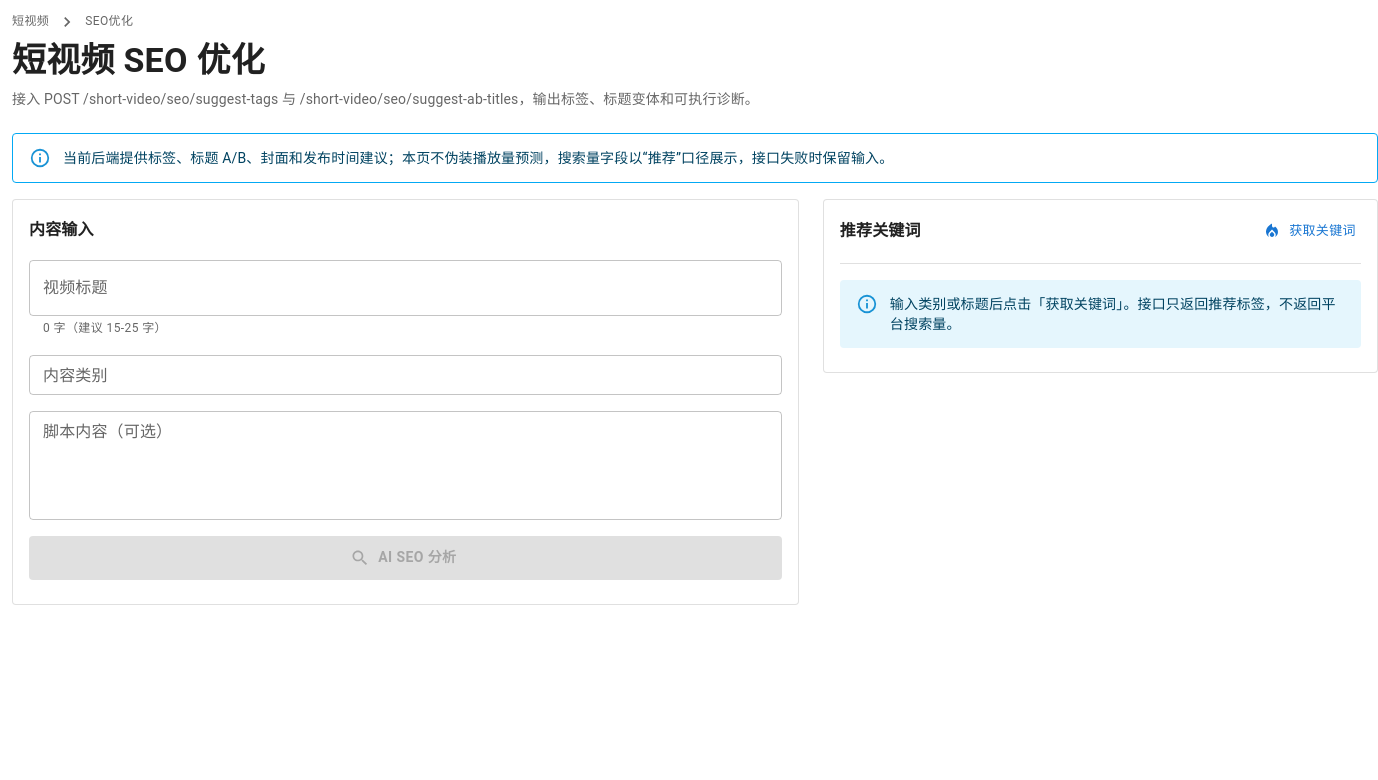
Test: SeoOptimizePage › shows tags endpoint failures and keeps SEO inputs
Type "敏感肌如何修护屏障" into the field labelled "视频标题" at (405, 288), box [29,260,782,316]
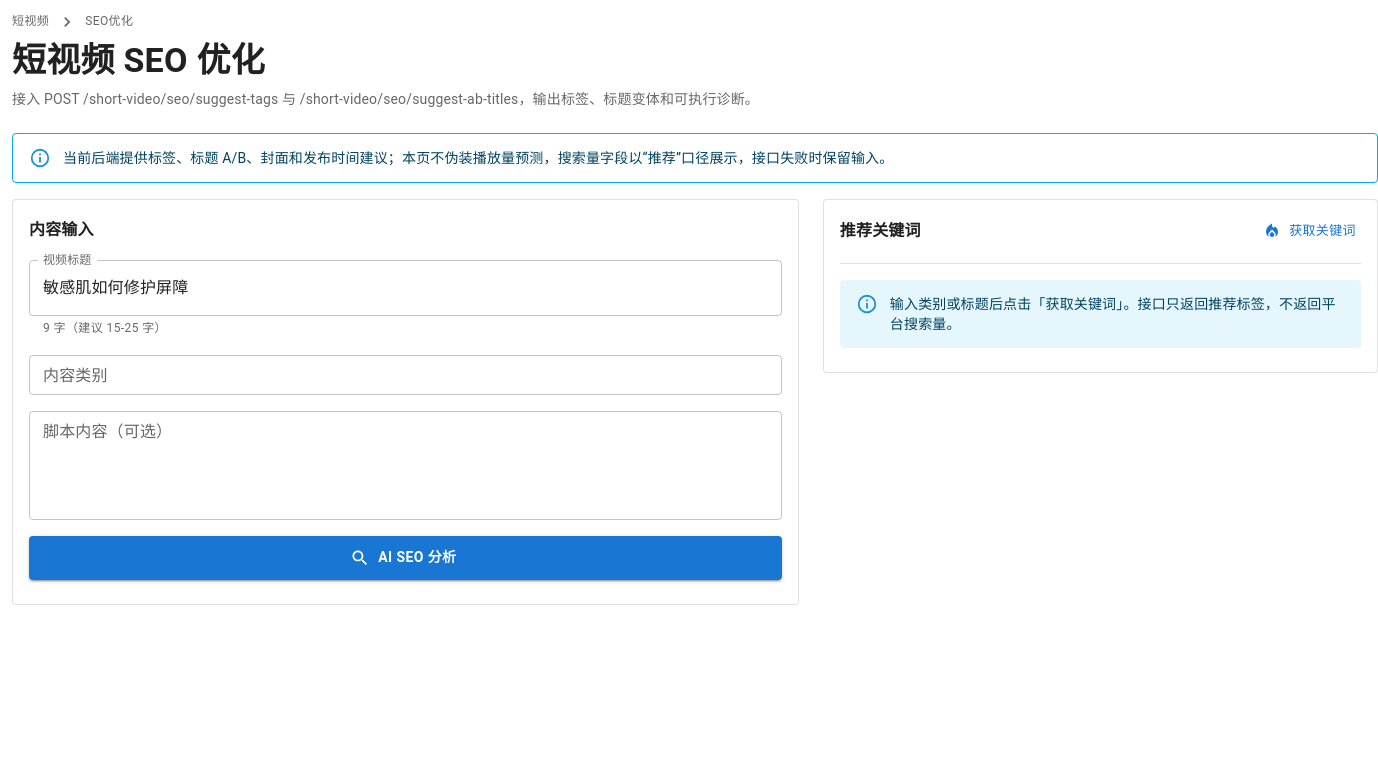
Type "护肤教程" into the field labelled "内容类别" at (405, 375), box [29,355,782,395]
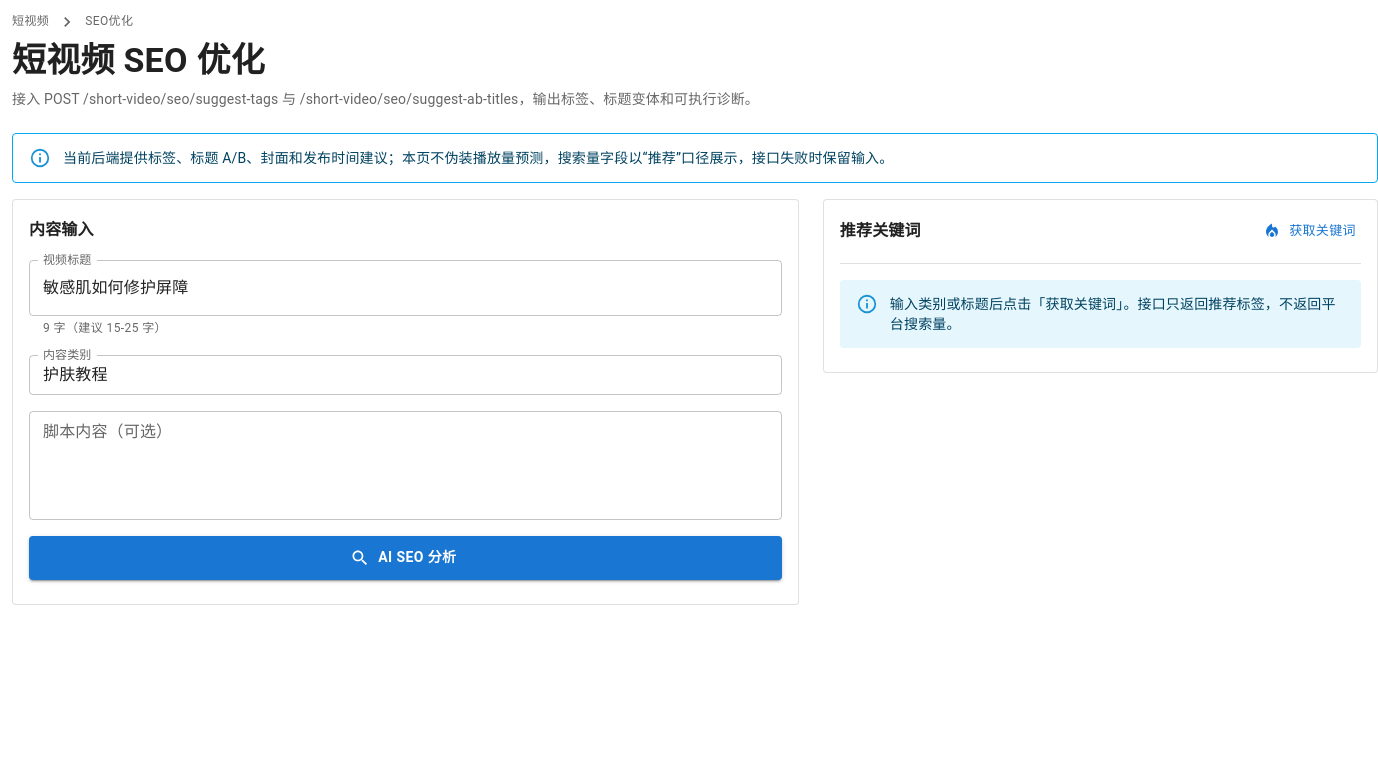
Click the button "AI SEO 分析" at (405, 558), box [29,536,782,580]
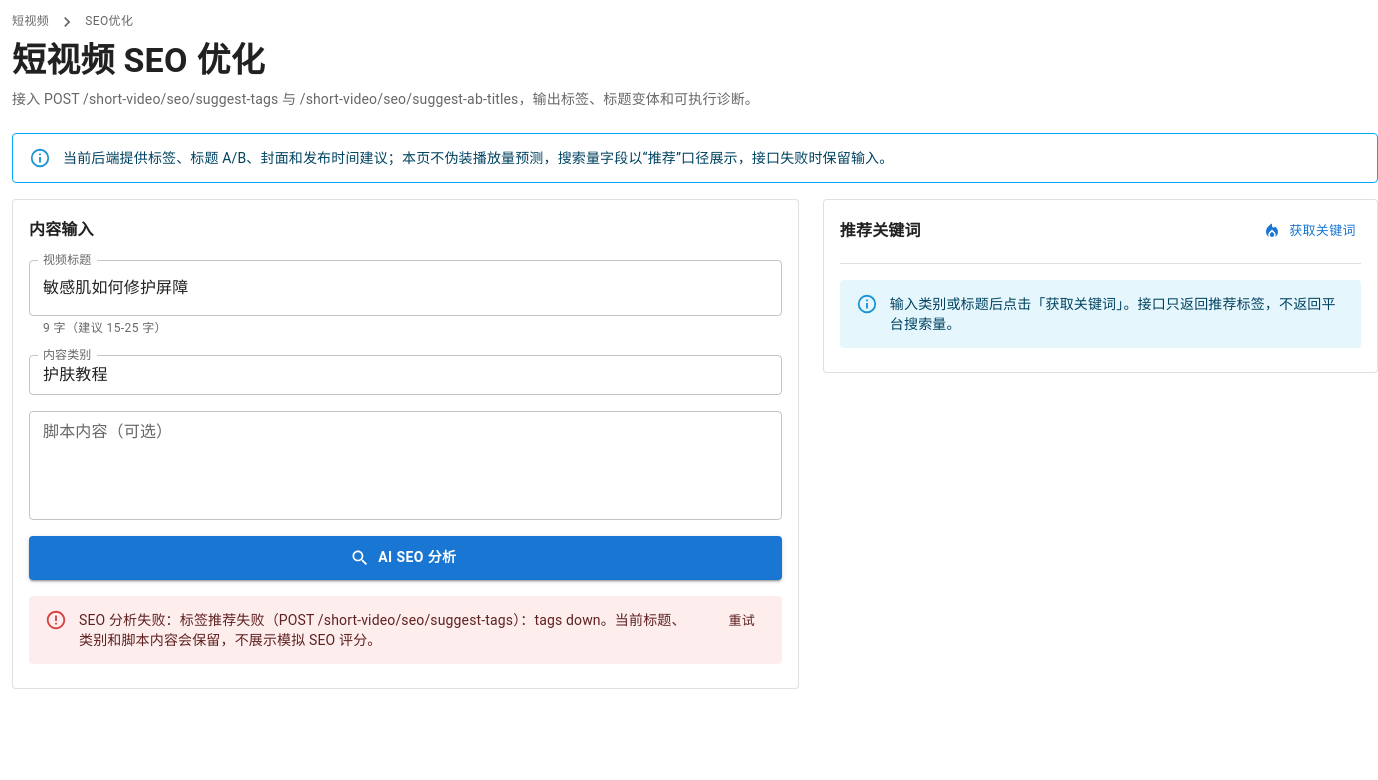
Expected: the text "标签推荐失败（POST /short-video/seo/suggest-tags）：tags down" is shown, [79,612,686,648]
